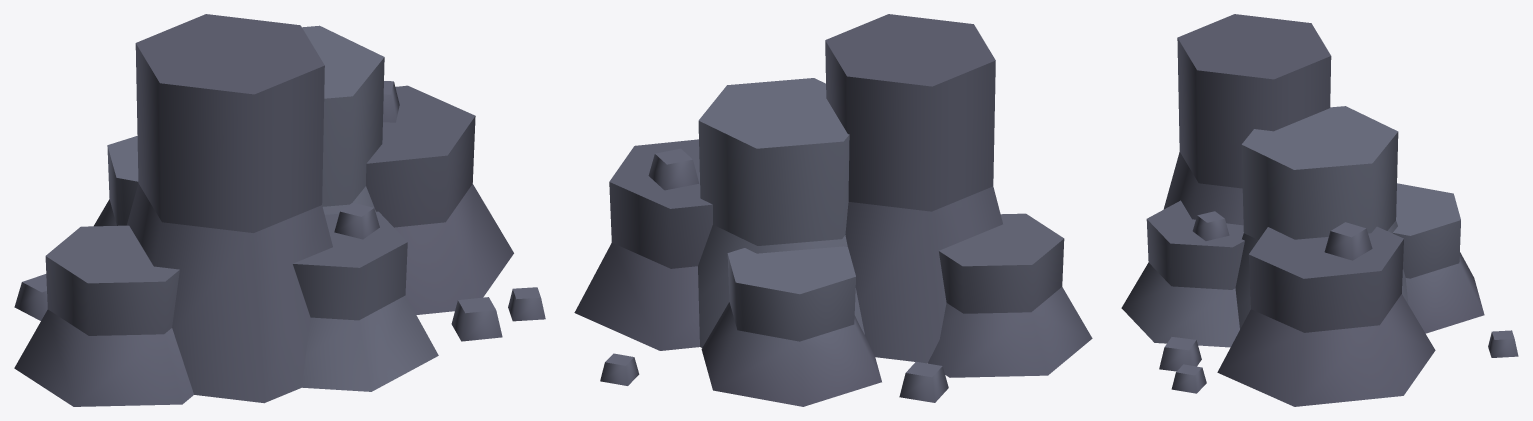
File: rocks-a.glb
3 views of the same model, side by side, from view 1: azimuth 30°, elevation 25°; view 2: azimuth 150°, elevation 25°; view 3: azimuth 270°, elevation 25° (orthographic). The views are drawn at different scales.
Visible parts, largest first — view 1: rocks-a; view 2: rocks-a; view 3: rocks-a.
Part boxes in pixels (bbox=[...]): rocks-a: bbox=[14, 14, 545, 406]; rocks-a: bbox=[574, 14, 1092, 406]; rocks-a: bbox=[1121, 14, 1518, 406].
Size of the model in its own units: 5.11 by 2.9 by 4.39.
